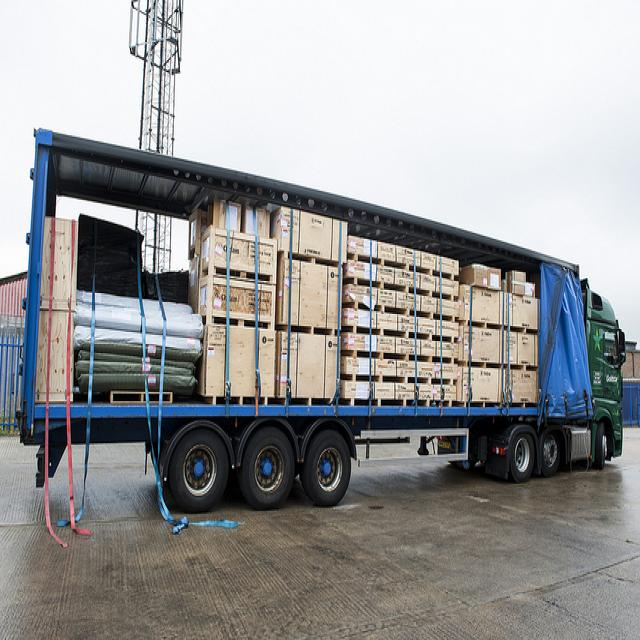Vehicle: (18, 124, 626, 514)
